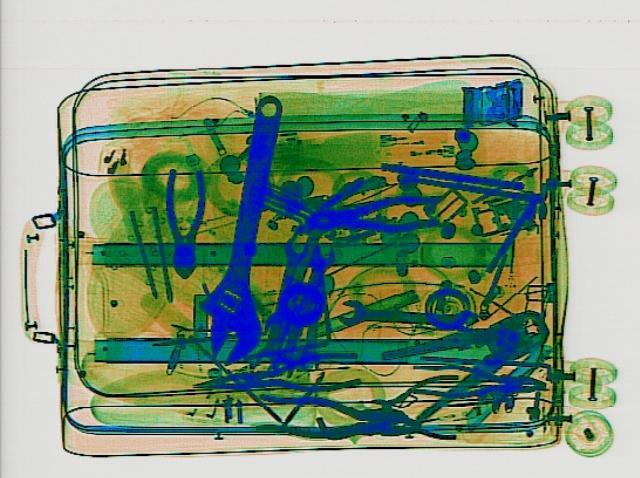Pliers: (365, 297, 575, 421), (244, 388, 422, 446), (187, 348, 363, 402), (302, 190, 444, 240), (407, 360, 545, 402), (163, 168, 204, 278)
Wrench: (185, 91, 303, 366), (336, 298, 476, 330), (271, 232, 311, 306), (302, 237, 336, 305)
